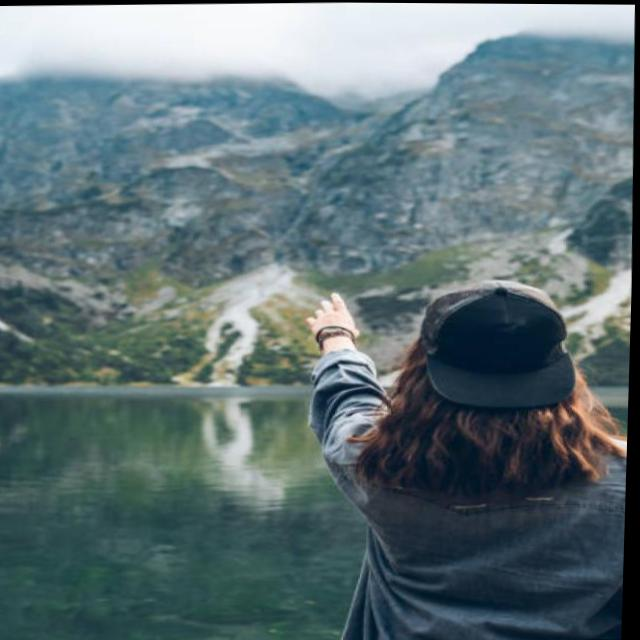no helmet: (308, 254, 634, 509)
